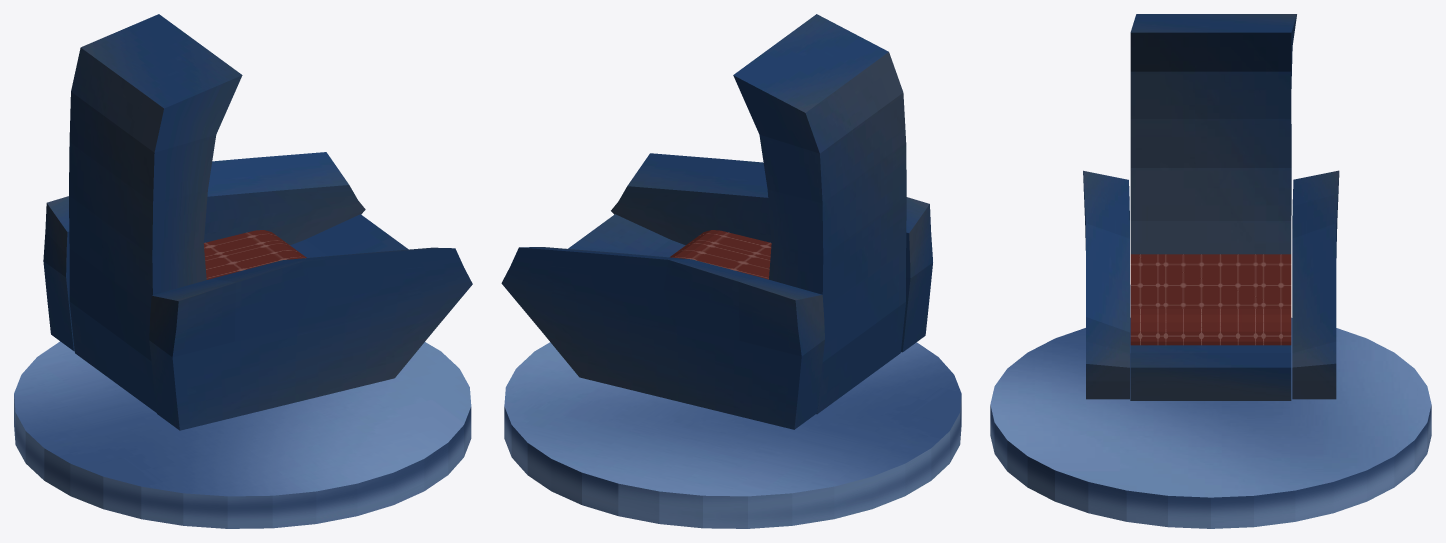
The model's file is throne.fbx.
3 views of the same model, side by side, from view 1: azimuth 30°, elevation 25°; view 2: azimuth 150°, elevation 25°; view 3: azimuth 270°, elevation 25° (orthographic). The views are drawn at different scales.
Visible parts, largest first — view 1: 柱体, 立方体.001, 立方体.003, 立方体.002, 立方体.004, 立方体; view 2: 柱体, 立方体.001, 立方体.002, 立方体.003, 立方体.004, 立方体; view 3: 柱体, 立方体.001, 立方体.004, 立方体.002, 立方体.003, 立方体.
Part boxes in pixels (box(x1,y1,x2,y2)): 柱体: box(14, 341, 471, 528); 立方体.001: box(69, 14, 242, 412); 立方体.003: box(149, 247, 472, 430); 立方体.002: box(43, 152, 365, 350); 立方体.004: box(203, 230, 306, 279); 立方体: box(290, 214, 408, 257); 柱体: box(504, 342, 961, 528); 立方体.001: box(733, 14, 906, 414); 立方体.002: box(501, 247, 824, 429); 立方体.003: box(611, 153, 932, 352); 立方体.004: box(670, 230, 771, 279); 立方体: box(568, 214, 685, 257); 柱体: box(990, 317, 1431, 528); 立方体.001: box(1130, 14, 1296, 254); 立方体.004: box(1130, 254, 1291, 345); 立方体.002: box(1292, 170, 1339, 399); 立方体.003: box(1083, 170, 1129, 399); 立方体: box(1130, 285, 1291, 400).
Bounding box in the file's own units: 1056 × 1012 × 1056.
Materials: 6 (6 with a texture image).
